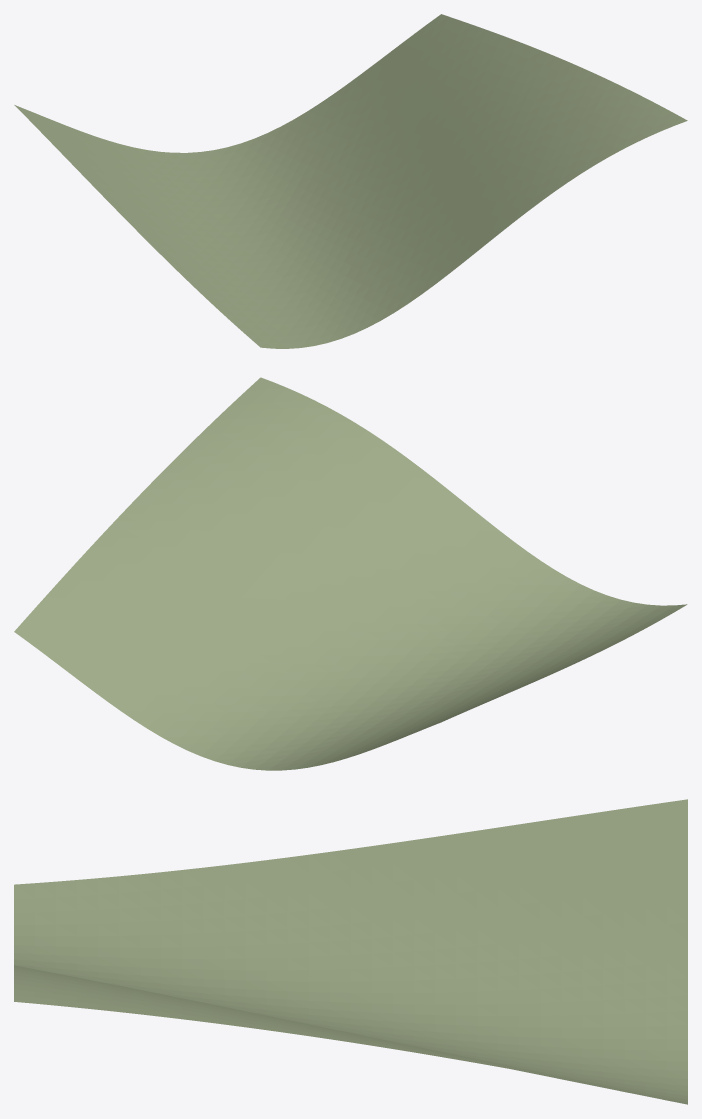
File: expanse-15-6.glb
3 views of the same model, one above another, from view 1: azimuth 30°, elevation 25°; view 2: azimuth 150°, elevation 25°; view 3: azimuth 270°, elevation 25° (orthographic). The views are drawn at different scales.
Parts seen in each view (by area): view 1: expanse-15-6; view 2: expanse-15-6; view 3: expanse-15-6.
Boxes of the visible parts, x1,y1,x2,y2 form: expanse-15-6: (14,14,687,348); expanse-15-6: (14,377,687,770); expanse-15-6: (14,799,687,1104).
Size of the model in its own units: 256 by 88.68 by 256.
